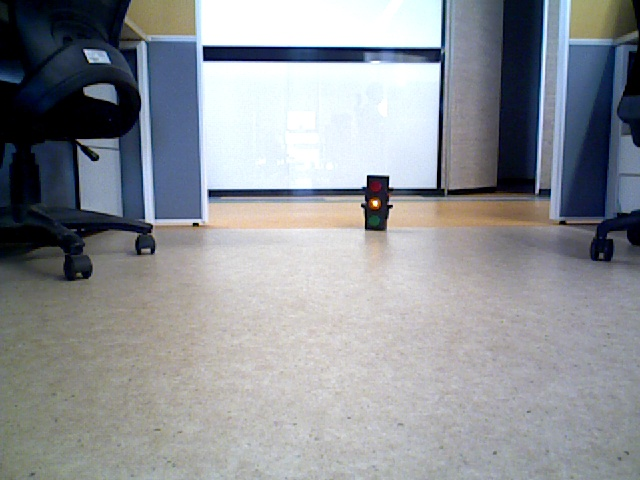yellow: (367, 178, 386, 227)
